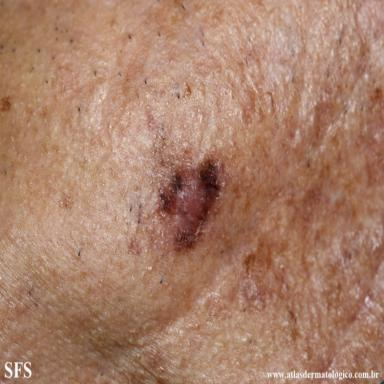Melanoma: (158, 159, 224, 251)
